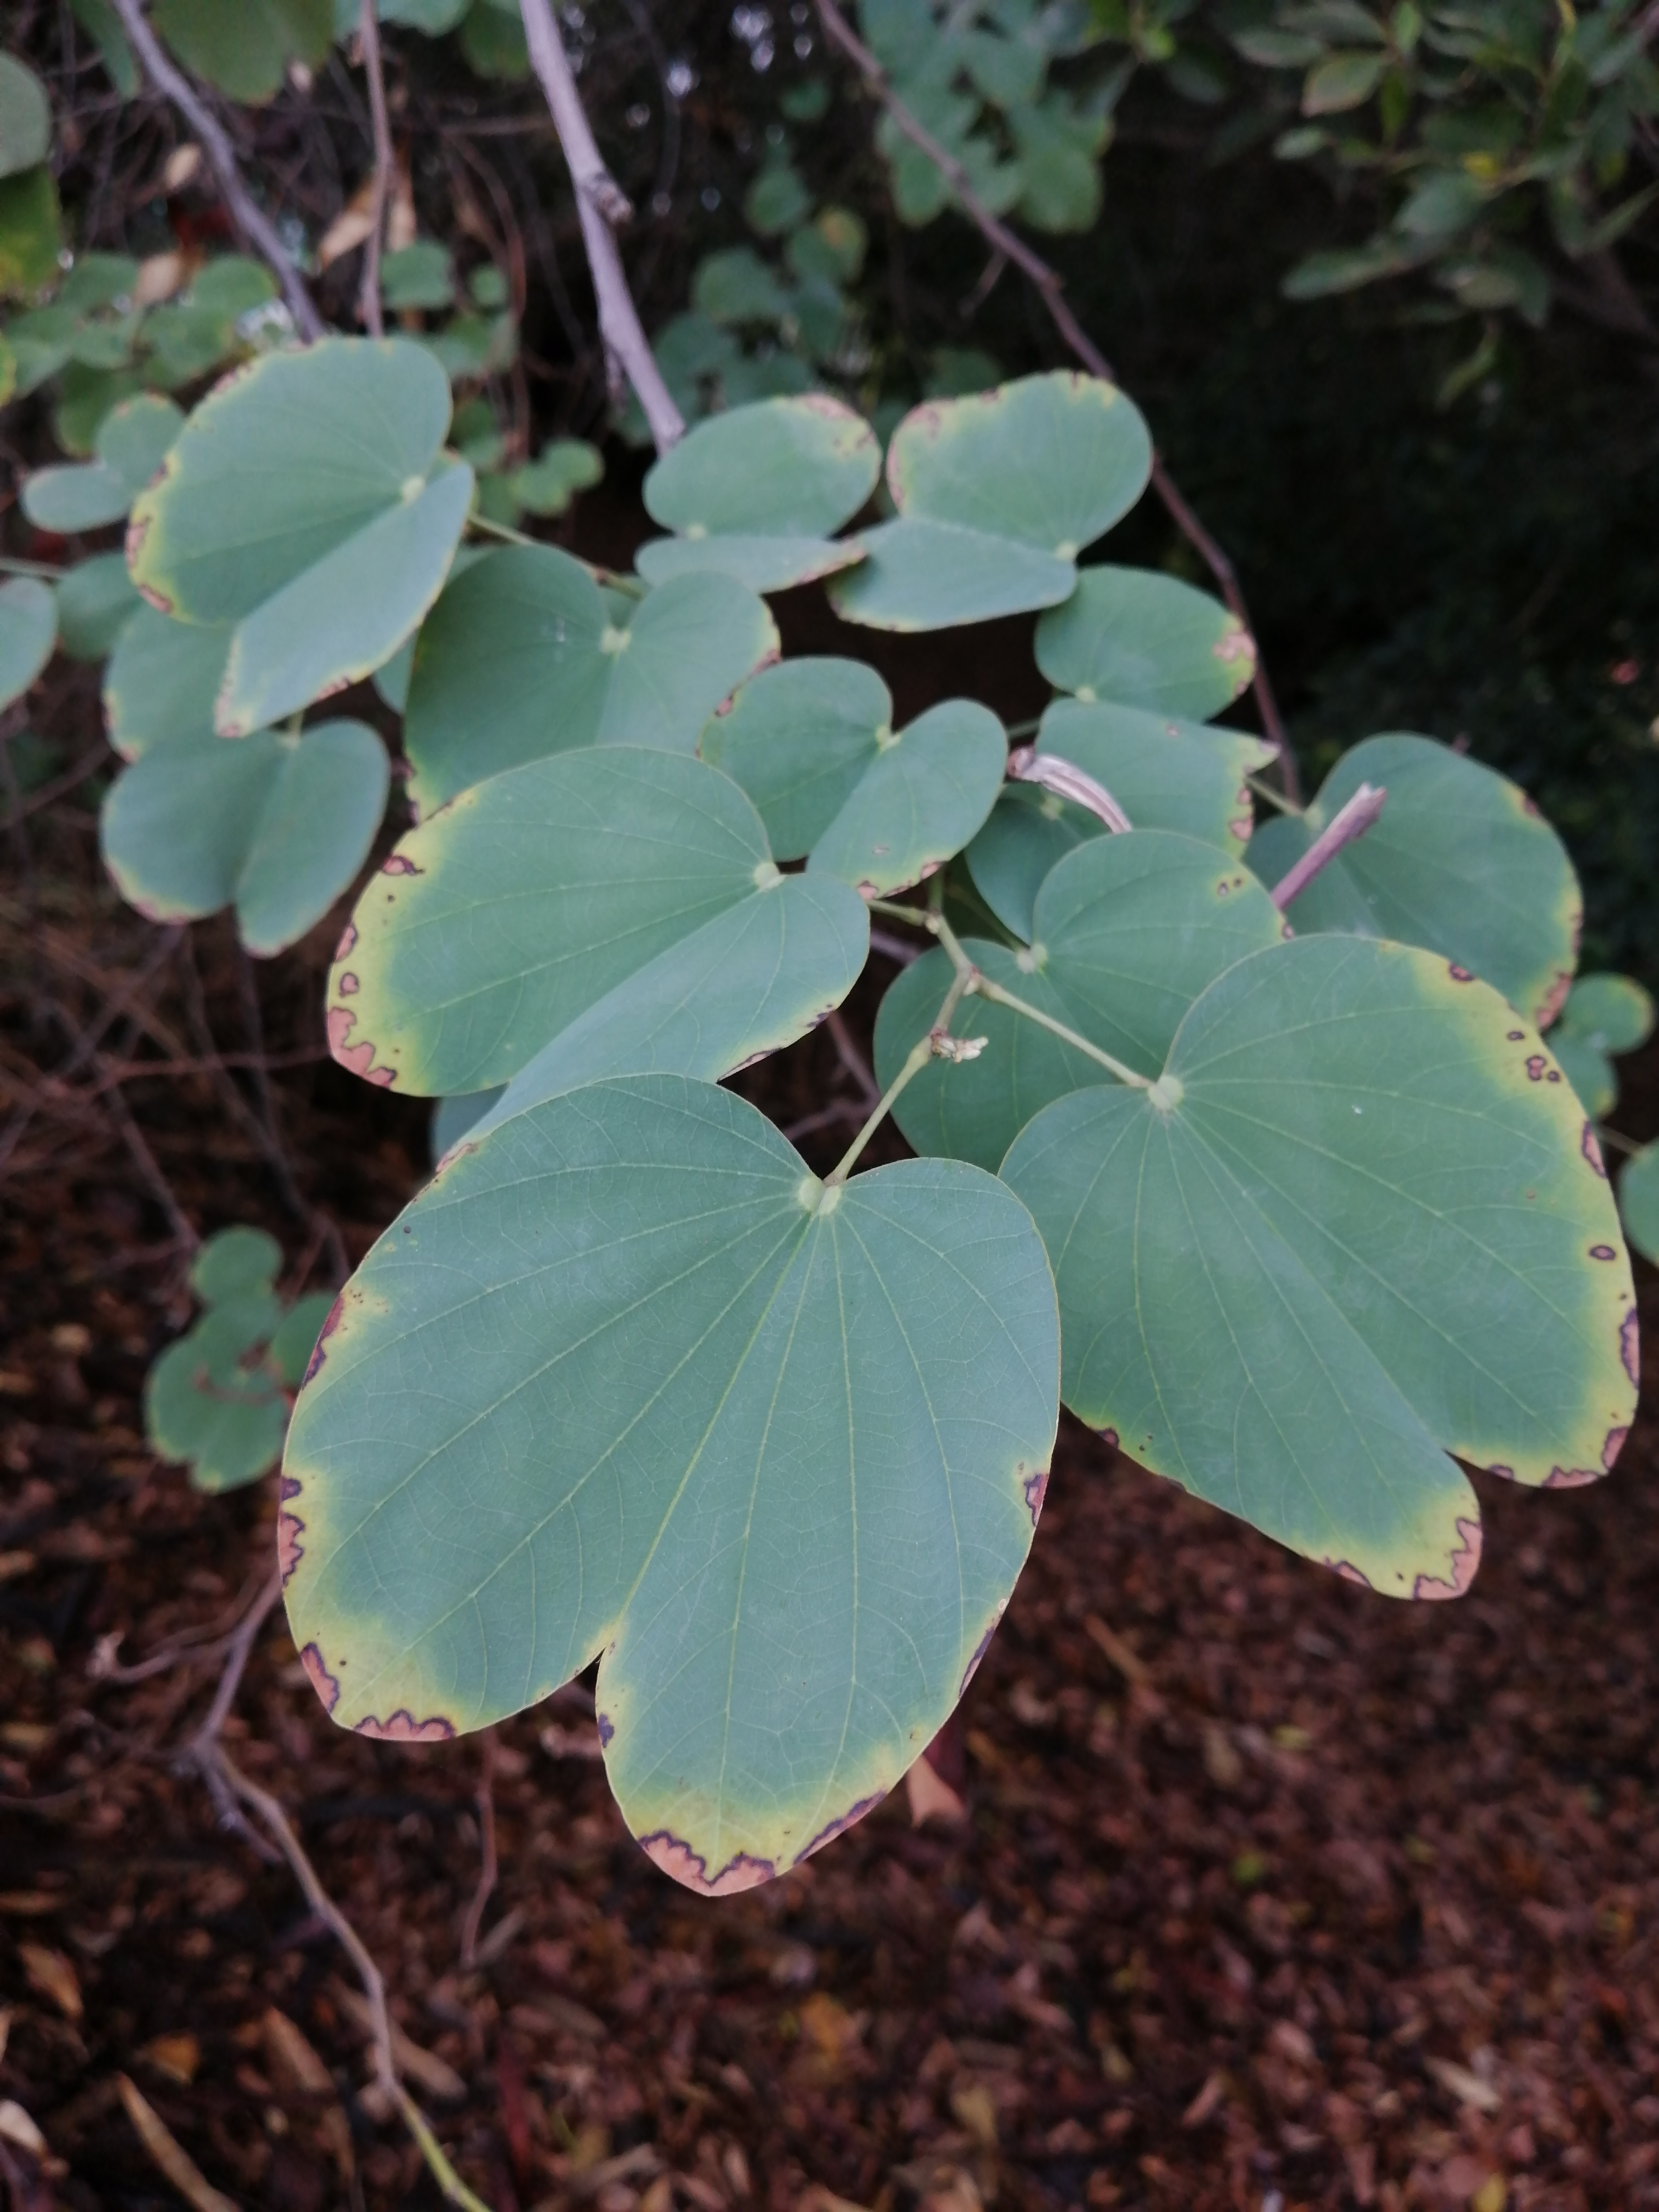nothealthy: (258, 1075, 1089, 1911), (983, 925, 1645, 1609), (322, 747, 887, 1195), (134, 331, 483, 733)
